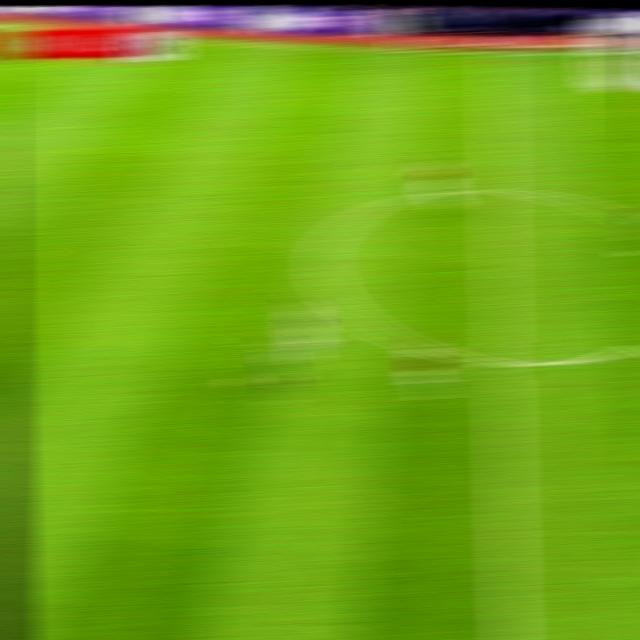halfcircle_bottom: (476, 343, 523, 380)
halfcircle_top: (474, 172, 519, 209)
midline_top_intersection: (475, 39, 514, 65)
